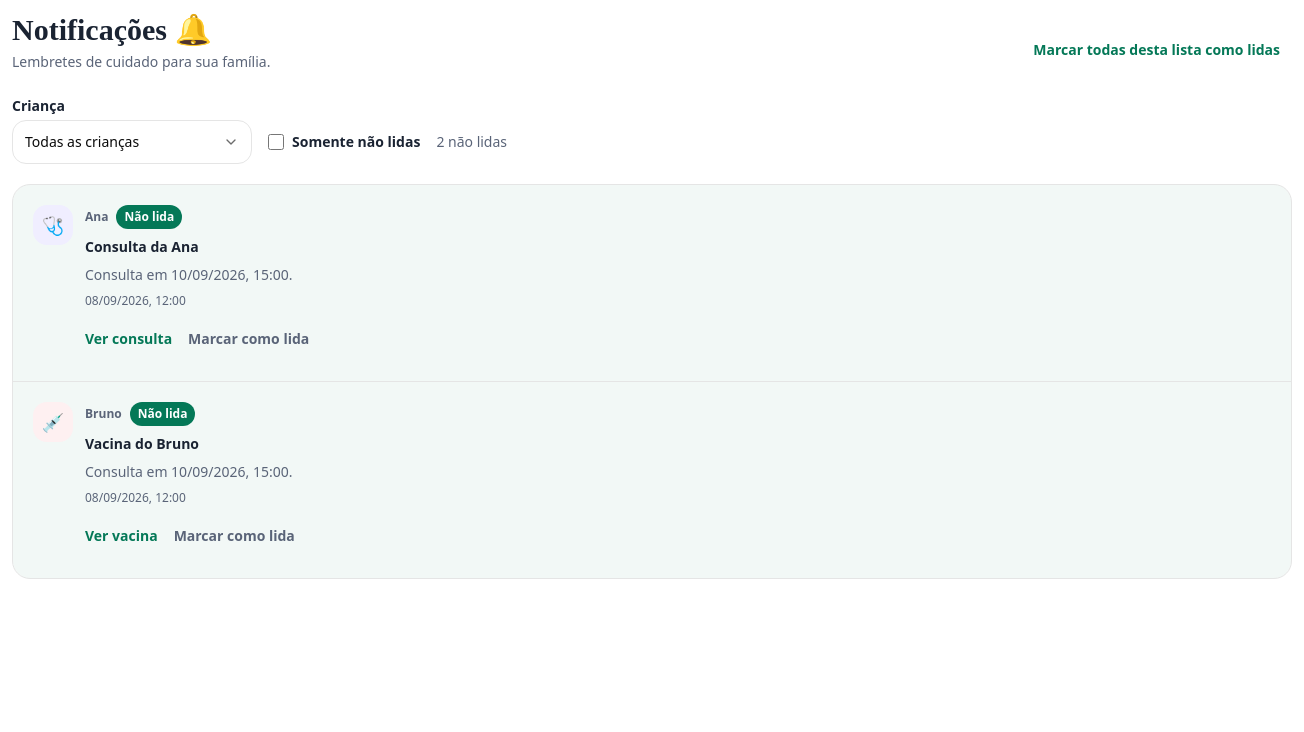
Test case: stops at the rate limit instead of sending the rest, and counts them as not marked
This screenshot has width=1304, height=732.
Expected: the heading "Consulta da Ana" is shown, left=85, top=237, right=199, bottom=256
What coordinates should you click on to do the following:
click the button "Marcar todas desta lista como lidas"
I would click on:
 (1157, 50)
Its box is left=1021, top=28, right=1292, bottom=72.
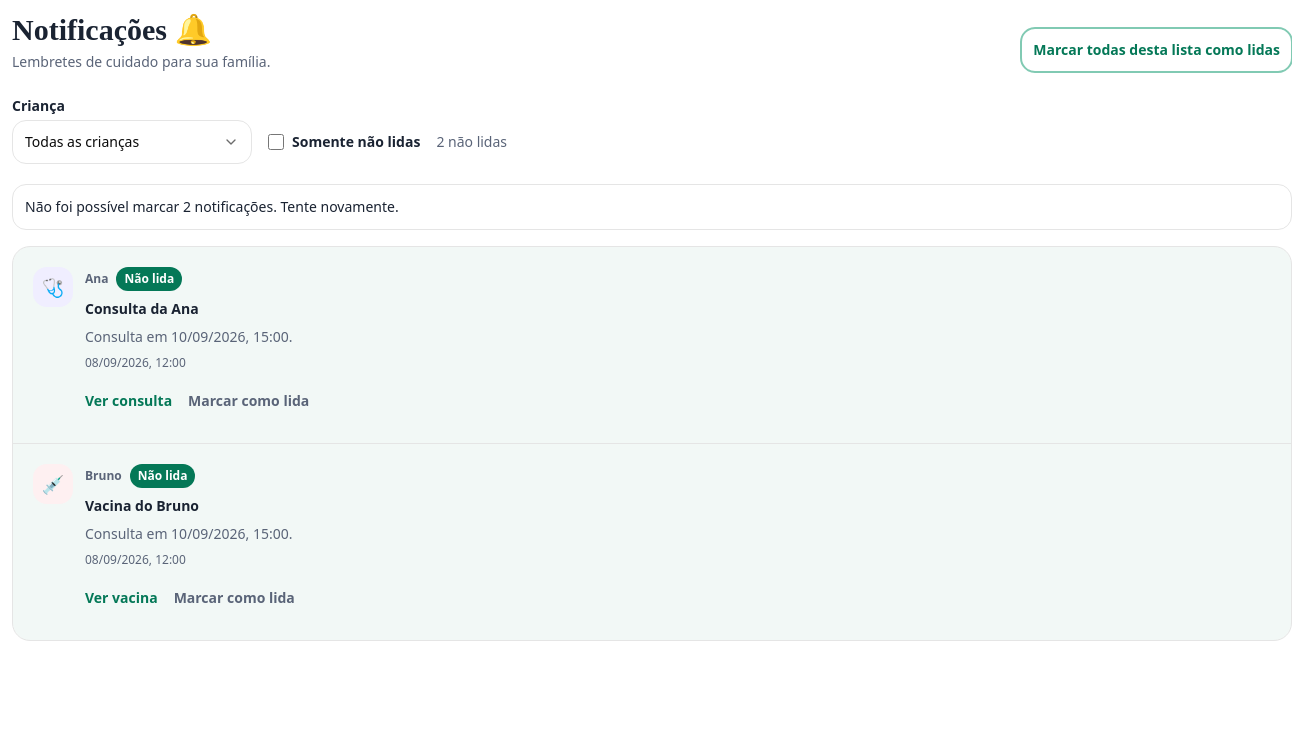
Expected: the message "Não foi possível marcar 2 notificações. Tente novamente." is shown, left=12, top=184, right=1292, bottom=230
